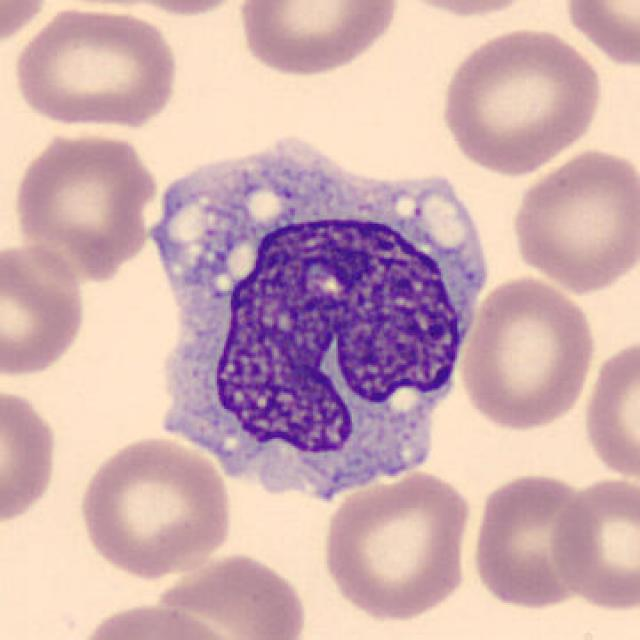Monocyte: (130, 120, 492, 513)
RBC: (436, 23, 606, 176), (318, 466, 475, 622), (73, 432, 235, 582), (9, 127, 162, 280), (455, 273, 599, 434), (9, 4, 181, 132), (507, 145, 638, 296), (468, 469, 596, 612), (151, 548, 313, 640), (234, 0, 403, 79), (547, 472, 640, 613), (0, 240, 91, 381), (0, 383, 62, 529), (580, 332, 638, 483), (70, 599, 244, 640), (558, 0, 640, 72), (384, 0, 547, 19), (0, 0, 57, 49), (108, 0, 260, 18)
